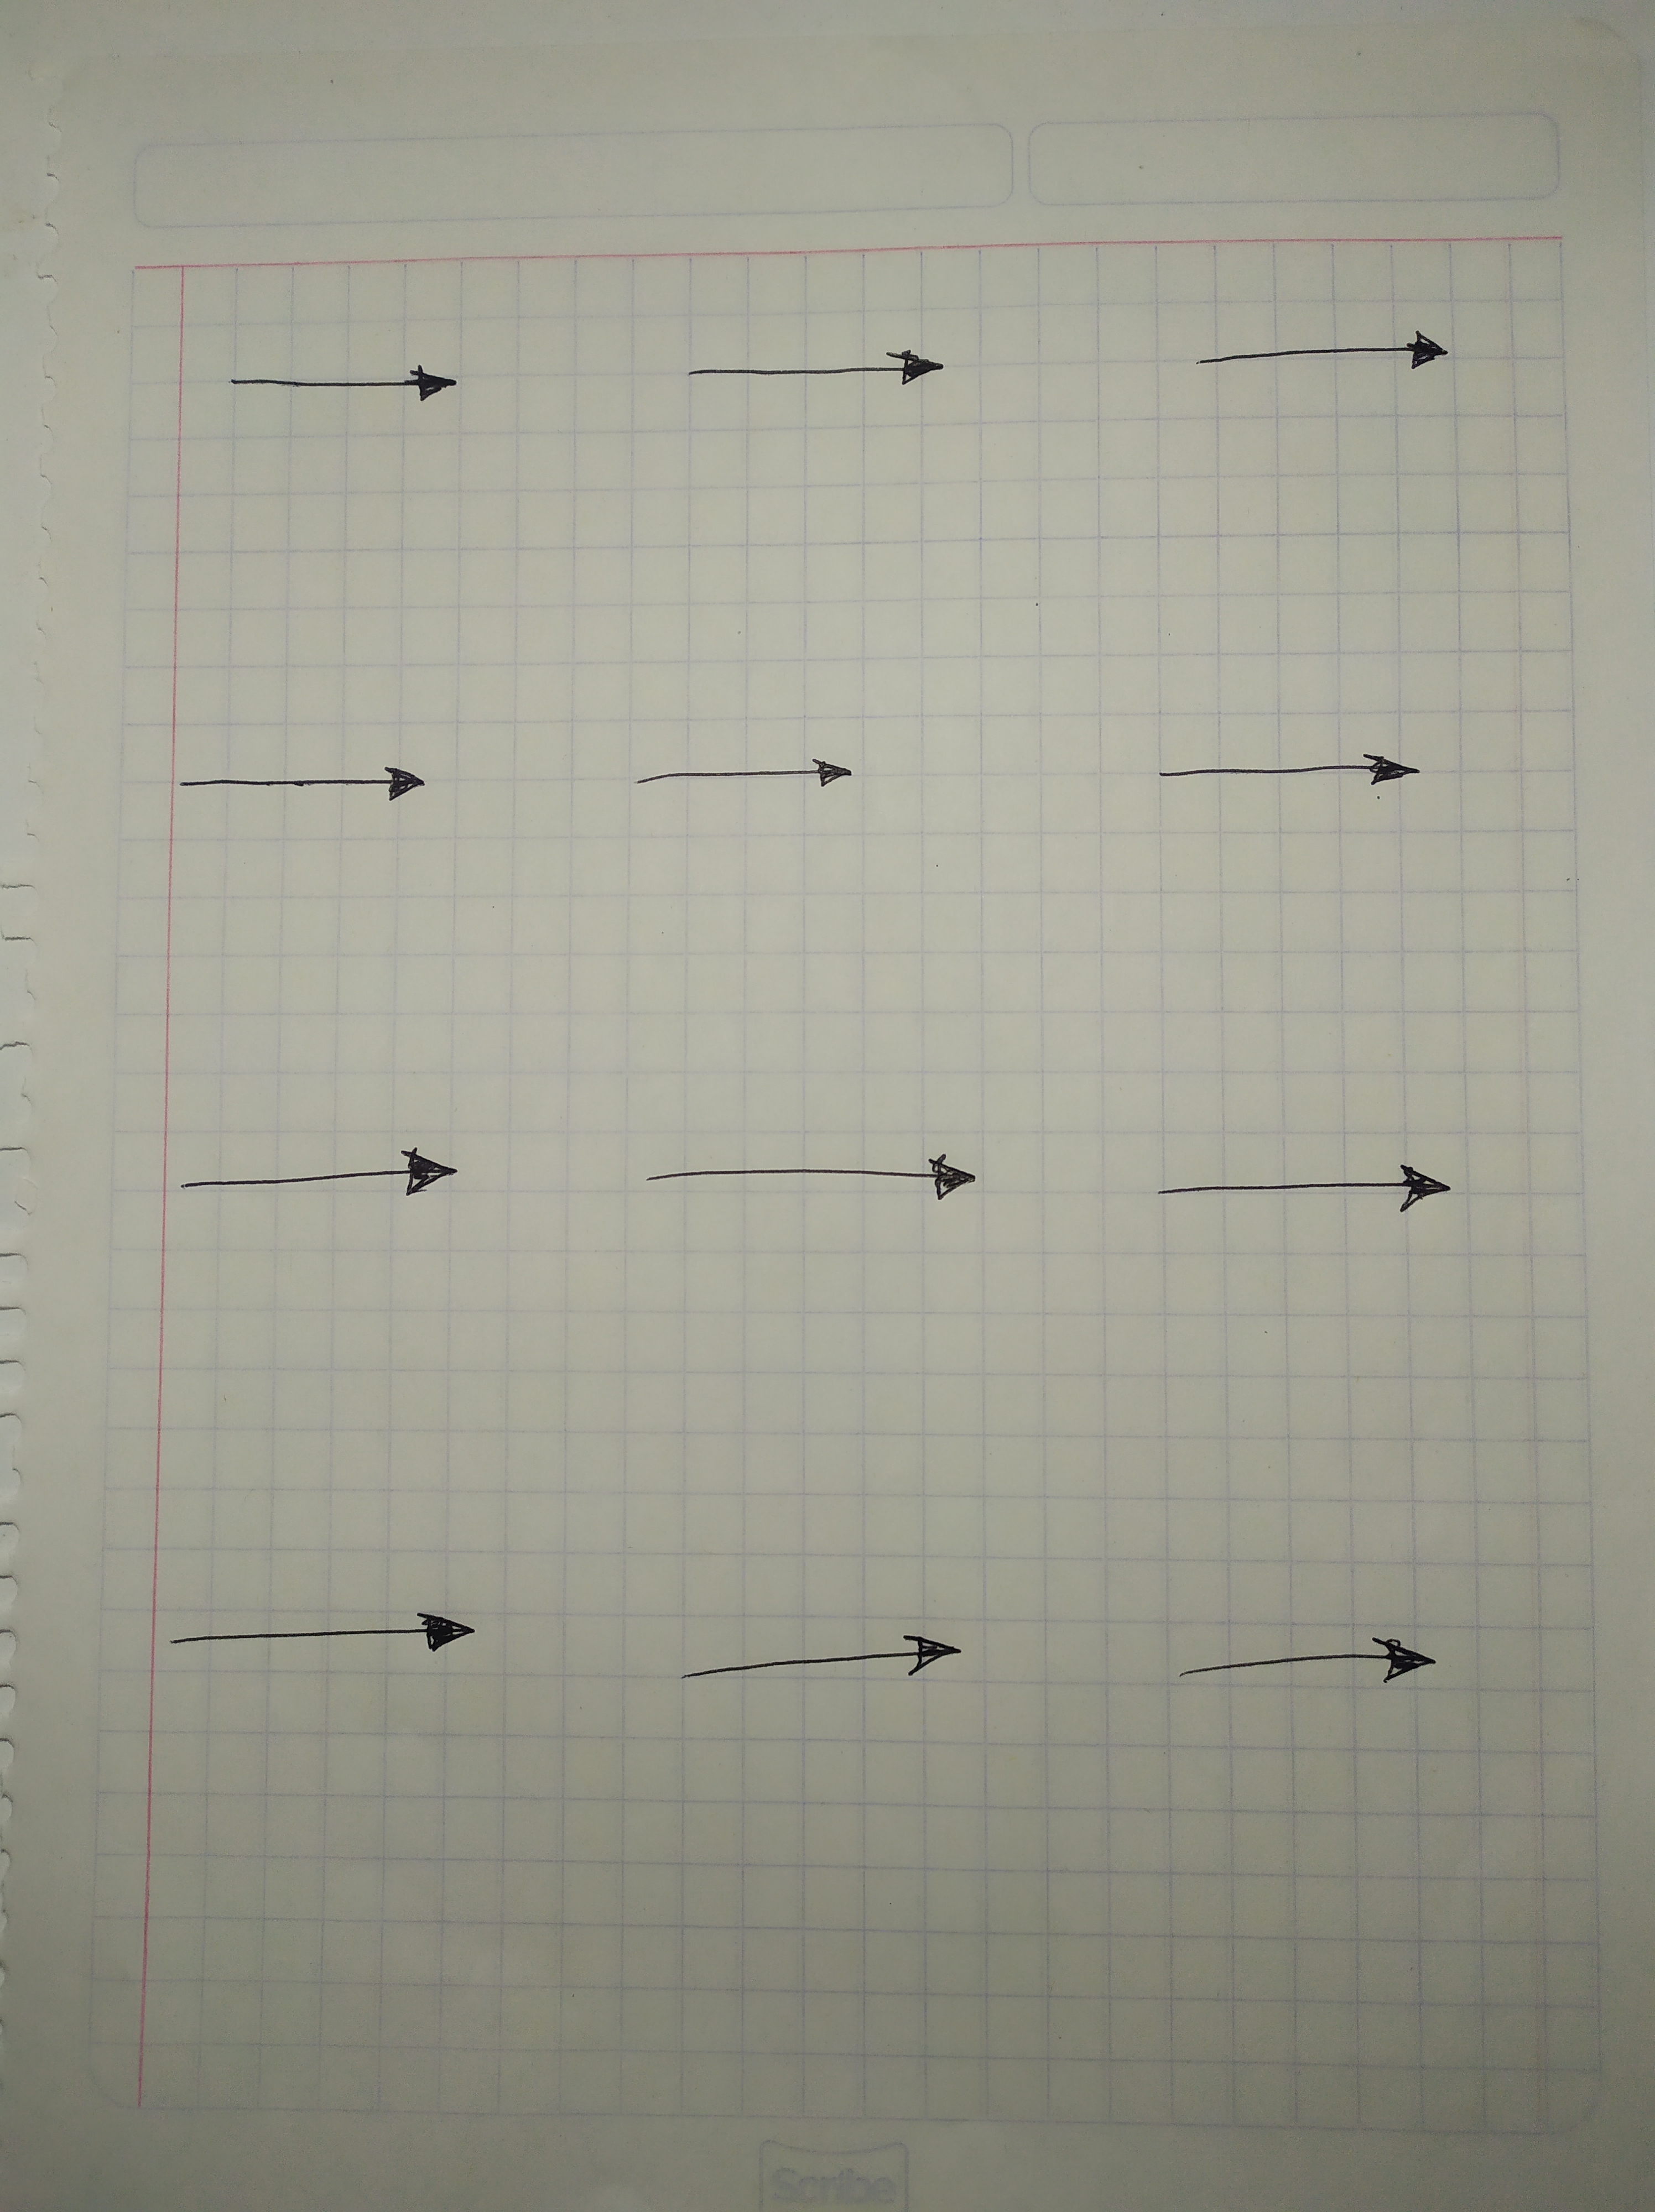arrow_line_right: (1121, 1133, 1516, 1255), (151, 1578, 518, 1701), (1137, 1600, 1474, 1732), (628, 1126, 1014, 1235), (153, 1117, 494, 1235), (654, 1606, 980, 1717), (1165, 304, 1476, 405), (655, 334, 1003, 422), (146, 742, 455, 827), (1130, 730, 1434, 815), (586, 730, 883, 815), (202, 339, 476, 424)
